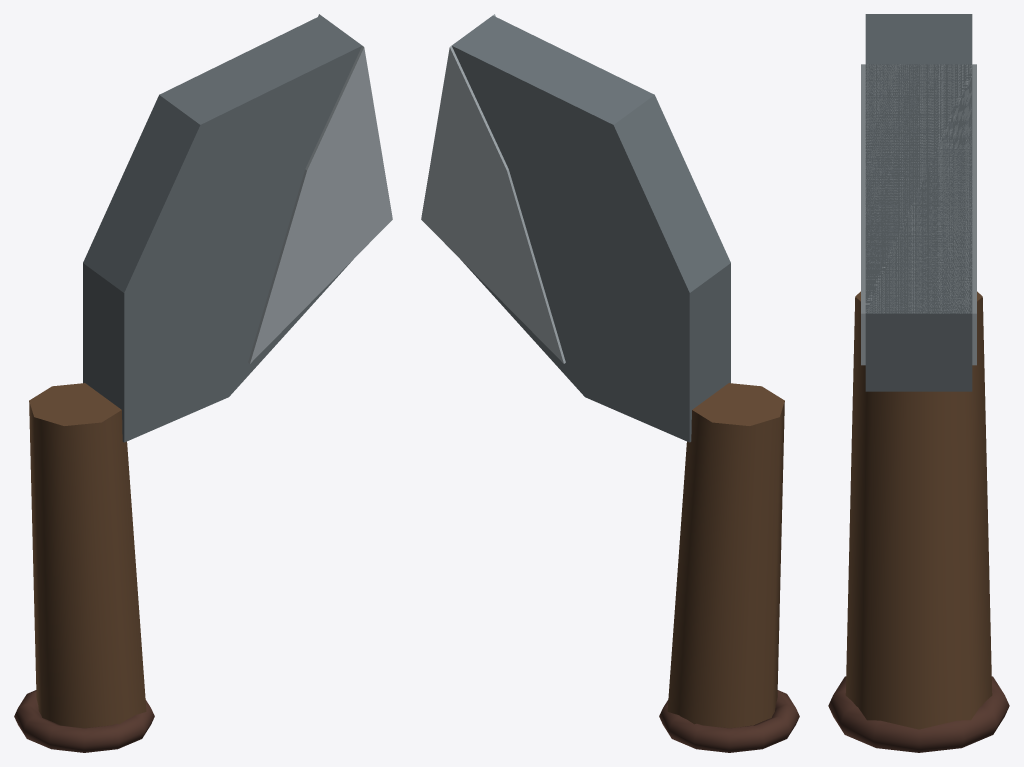
The model's file is handaxe.glb.
3 renders of one model, left to right at view 1: azimuth 30°, elevation 25°; view 2: azimuth 150°, elevation 25°; view 3: azimuth 270°, elevation 25°, orthographic. The views are drawn at different scales.
Visible parts, largest first — view 1: handaxe-blade, handaxe-haft, handaxe-edge, handaxe-haft-grip; view 2: handaxe-blade, handaxe-haft, handaxe-edge, handaxe-haft-grip; view 3: handaxe-haft, handaxe-blade, handaxe-edge, handaxe-haft-grip.
Boxes of the visible parts, x1=… form: handaxe-blade: x1=83, y1=15, x2=362, y2=442; handaxe-haft: x1=29, y1=383, x2=146, y2=728; handaxe-edge: x1=248, y1=14, x2=392, y2=363; handaxe-haft-grip: x1=14, y1=690, x2=154, y2=752; handaxe-blade: x1=451, y1=15, x2=730, y2=442; handaxe-haft: x1=667, y1=383, x2=784, y2=728; handaxe-edge: x1=421, y1=14, x2=565, y2=363; handaxe-haft-grip: x1=659, y1=690, x2=799, y2=752; handaxe-haft: x1=845, y1=291, x2=992, y2=729; handaxe-blade: x1=865, y1=14, x2=972, y2=391; handaxe-edge: x1=861, y1=64, x2=976, y2=365; handaxe-haft-grip: x1=828, y1=676, x2=1009, y2=752.
Size of the model in its own units: 0.364 by 0.637 by 0.128.
